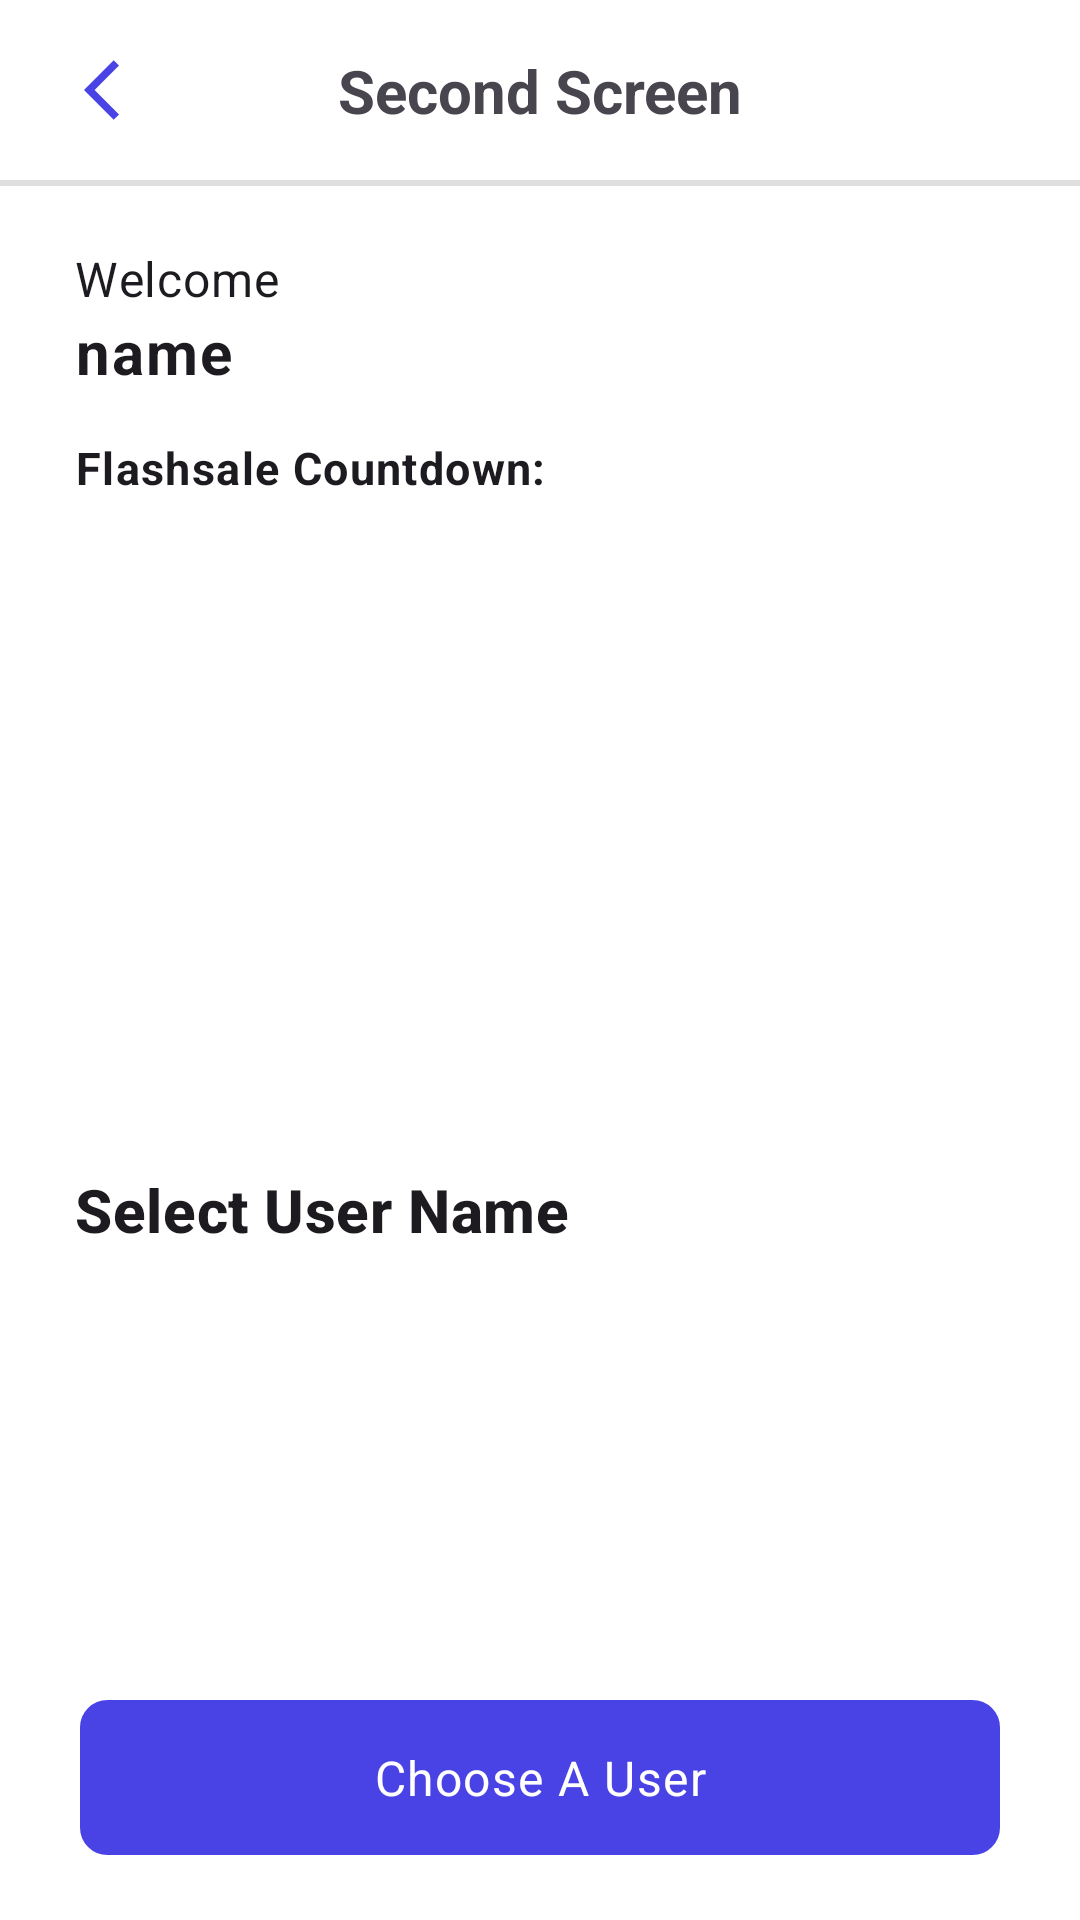

Icons on this 1080px×1920px Android screen, each with the point to tap as point (x, y):
arrow back: point (101, 90)
